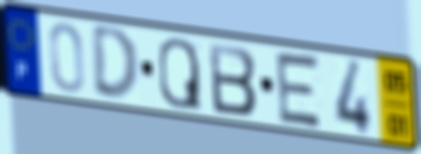0: (47, 20, 86, 96)
4: (332, 58, 374, 138)
B: (206, 40, 259, 118)
D: (89, 25, 142, 105)
E: (274, 49, 325, 132)
Q: (156, 35, 205, 113)
